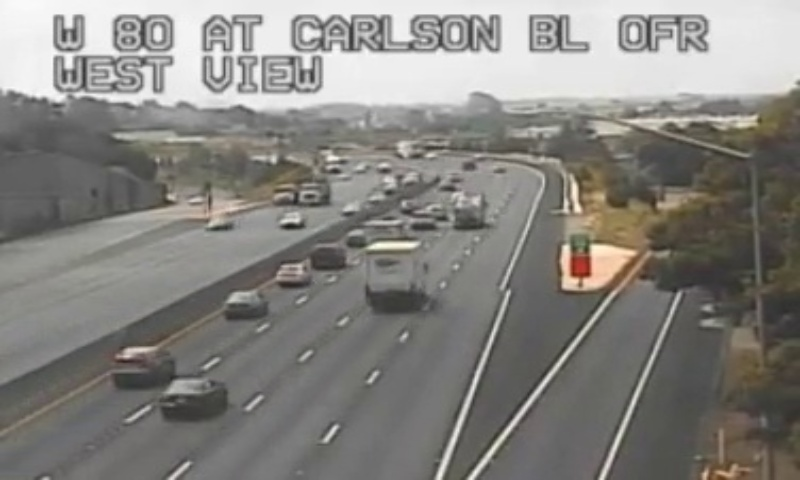car: (160, 377, 225, 415), (111, 346, 175, 382), (223, 290, 263, 317), (310, 245, 344, 270), (274, 263, 306, 285)
small-truck: (363, 240, 423, 308)
